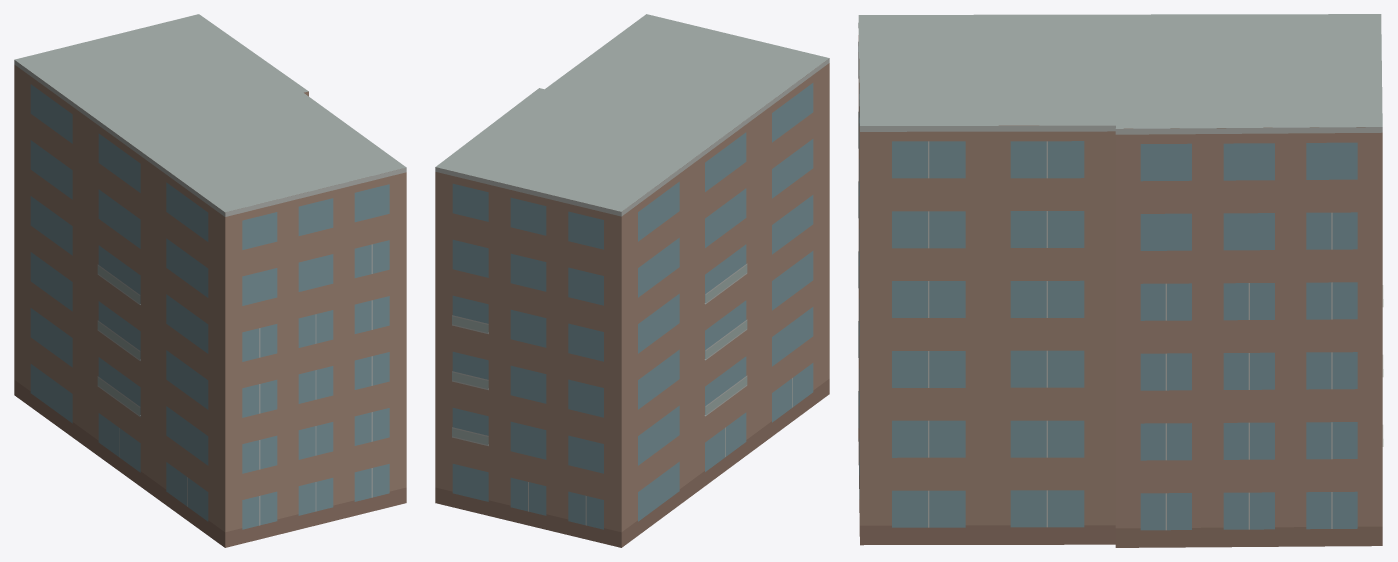
Rendered from survey-upis-33003472.glb.
The picture shows the model from 3 angles, left to right: view 1: azimuth 30°, elevation 25°; view 2: azimuth 150°, elevation 25°; view 3: azimuth 270°, elevation 25°; orthographic projection. The views are drawn at different scales.
Parts seen in each view (by area): view 1: survey-upis-33003472.tmp; view 2: survey-upis-33003472.tmp; view 3: survey-upis-33003472.tmp.
Boxes of the visible parts, <box> form: survey-upis-33003472.tmp: <box>14,14,406,547</box>; survey-upis-33003472.tmp: <box>435,14,829,547</box>; survey-upis-33003472.tmp: <box>858,14,1383,547</box>.
Bounding box in the file's own units: 10.24 × 17.4 × 19.77.
